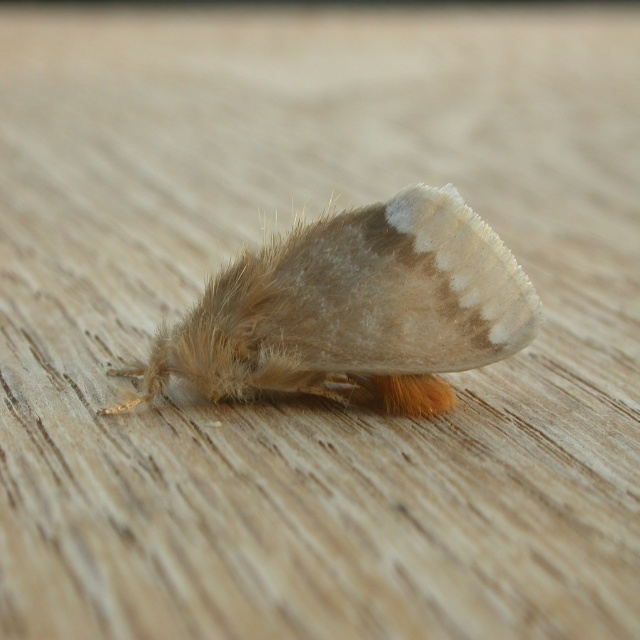Moths and butterflies: (98, 181, 548, 414)
